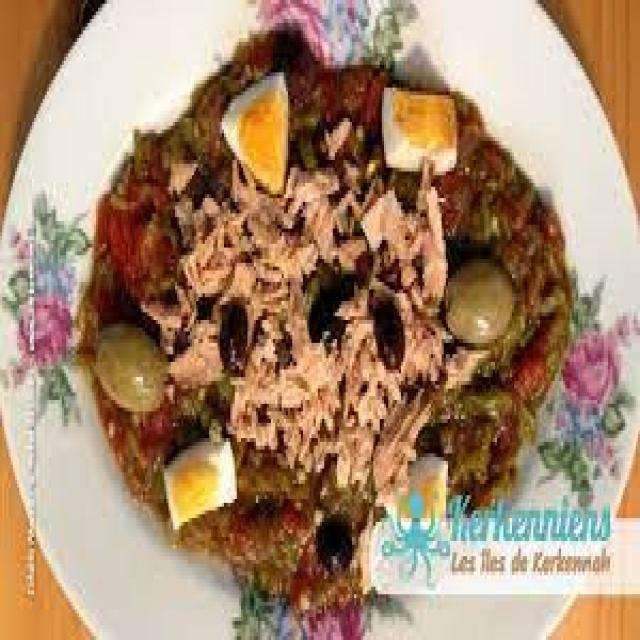Salade mechweya: (81, 0, 634, 610)
